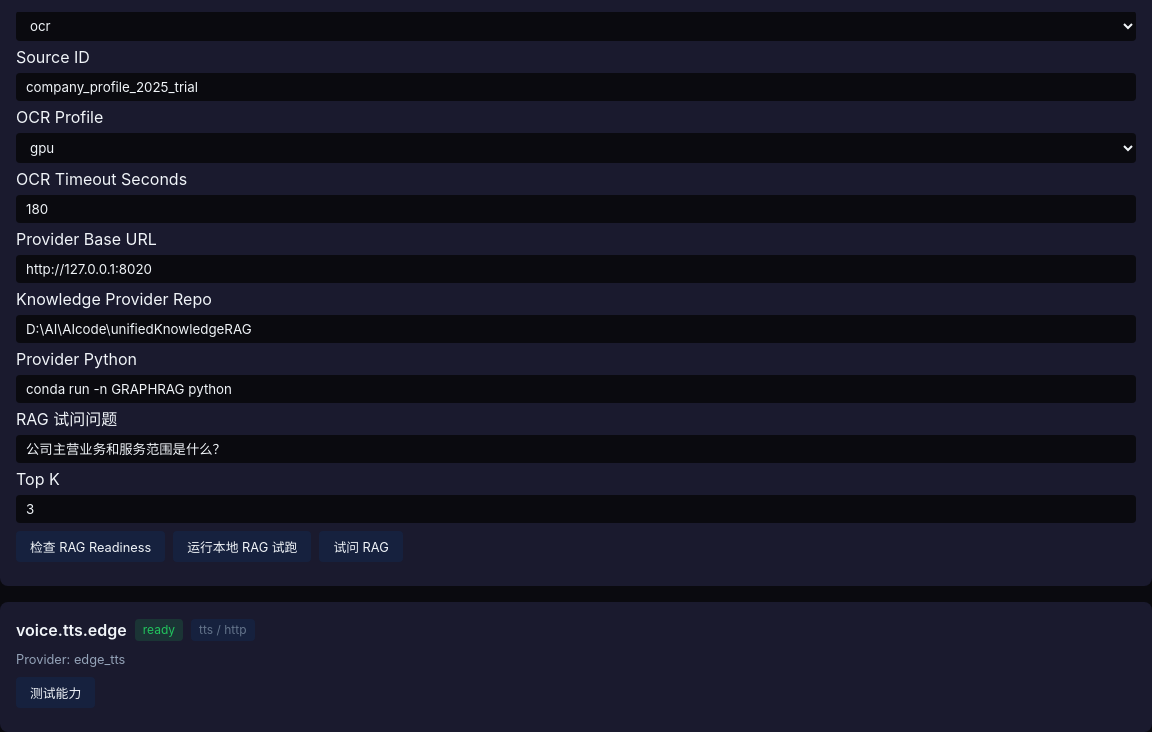
it: CapabilityProviderDiagnosticsPanel › runs local document rag readiness and displays report path
The width and height of the screenshot is (1152, 732).
Click the button with test id "document-rag-readiness" at (91,546), box top-left (16, 531), bottom-right (165, 562)
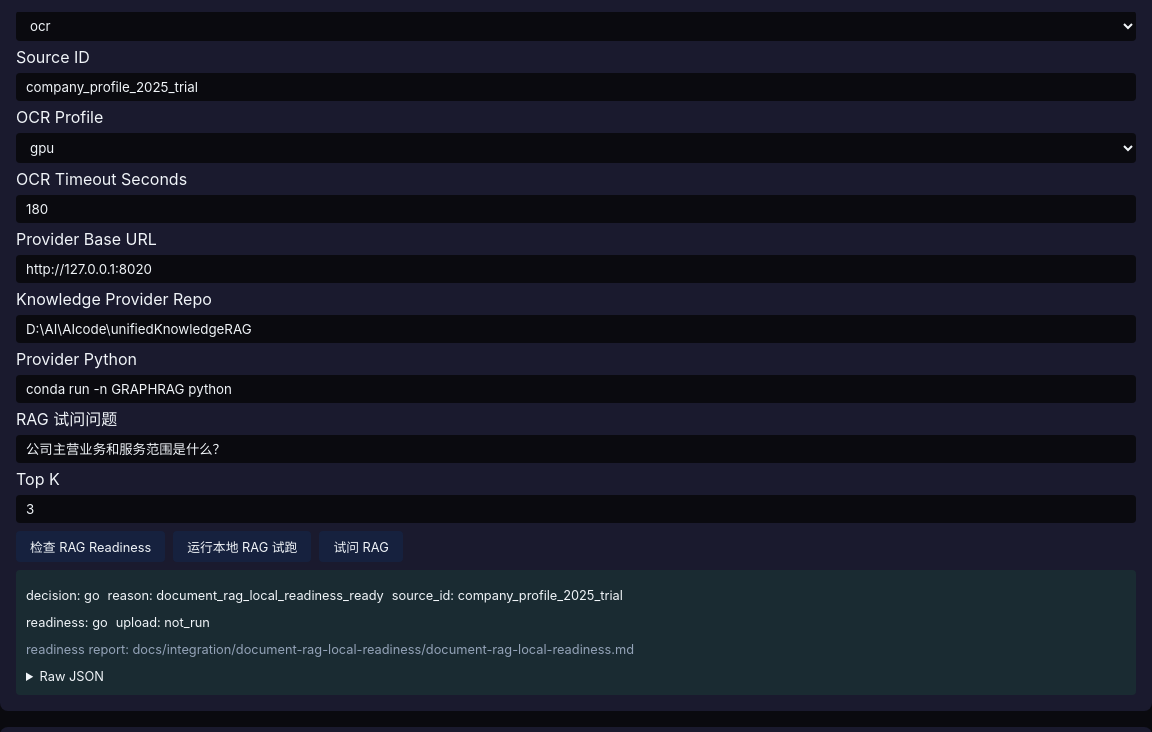
Check: the text "decision: go" is shown, box top-left (26, 586), bottom-right (100, 605)
Check: the text "readiness report: docs/integration/document-rag-local-readiness/document-rag-local-readiness.md" is shown, box top-left (26, 642), bottom-right (634, 657)
